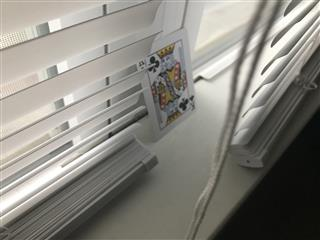KingOfClubs: (134, 27, 199, 142)
